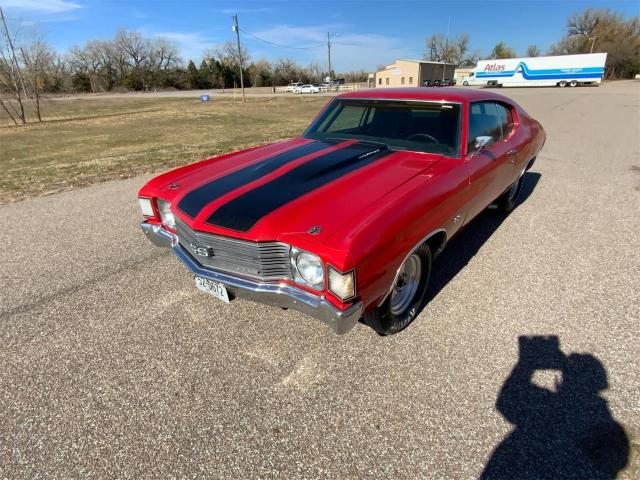chevelle-1972: (139, 88, 547, 334)
